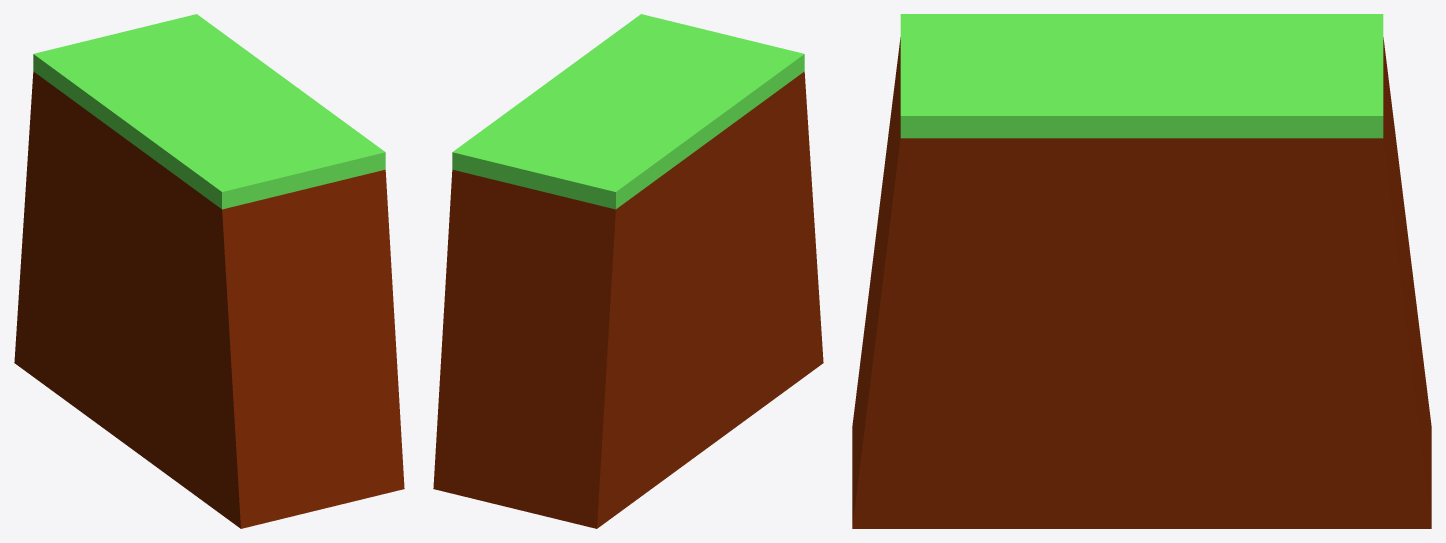
File: escenarioTestSup1L.fbx
3 renders of one model, left to right at view 1: azimuth 30°, elevation 25°; view 2: azimuth 150°, elevation 25°; view 3: azimuth 270°, elevation 25°, orthographic. The views are drawn at different scales.
Parts seen in each view (by area): view 1: Cube.008; view 2: Cube.008; view 3: Cube.008.
Part boxes in pixels (left/top/right/bottom): Cube.008: left=14, top=14, right=404, bottom=528; Cube.008: left=433, top=14, right=823, bottom=528; Cube.008: left=852, top=14, right=1431, bottom=528.
Size of the model in its own units: 1189 by 2244 by 2853.
